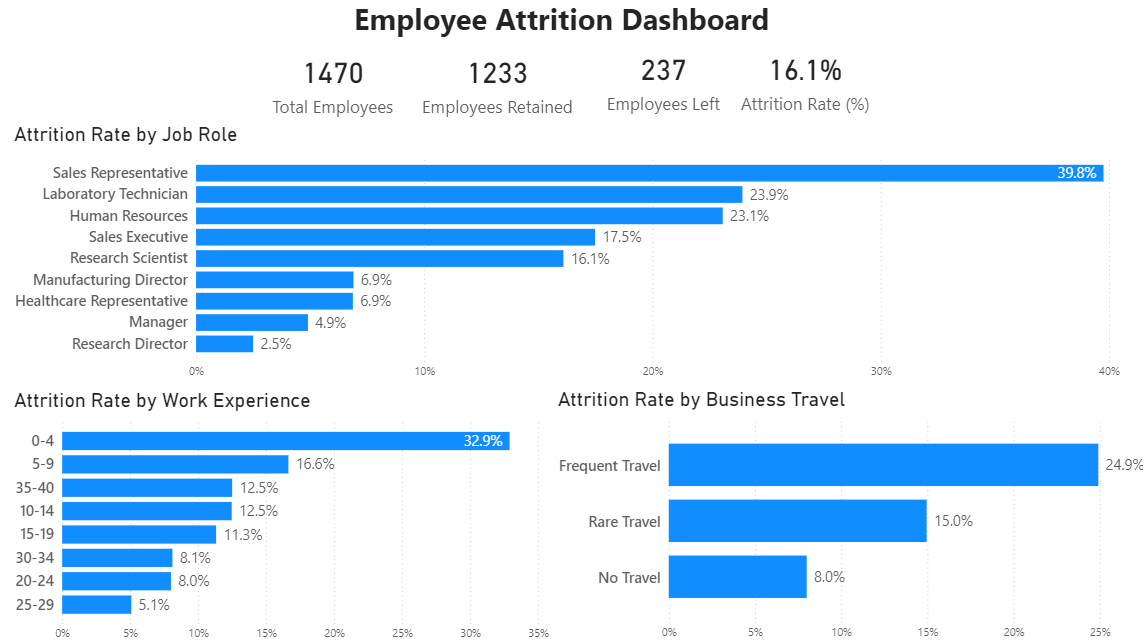

This screenshot's page, from the dashboard's own definition file:
{"tool":"powerbi","page":{"name":"Page 1","canvas":[1280,720],"ordinal":0},"visuals":[{"type":"card","fields":{"Values":["employee_attrition_raw.TotalEmployees"]},"box":[264.7,50,208,96],"z":0},{"type":"textbox","box":[387.1,0,488.6,54.3],"z":1000},{"type":"card","fields":{"Values":["Employees.Employees Left"]},"box":[634.7,50,192.9,88.6],"z":2000},{"type":"card","fields":{"Values":["Employees.Attrition Rate (%)"]},"box":[796.1,50,182.9,88.6],"z":3000},{"type":"card","fields":{"Values":["Employees.Employees Retained"]},"box":[446.1,50,207.1,95.7],"z":4000},{"type":"clusteredBarChart","title":"Attrition Rate by Job Role","fields":{"Category":["Employees.JobRole"],"Y":["Employees.Attrition Rate"]},"box":[13.7,141.3,1266.6,290.9],"z":5000},{"type":"clusteredBarChart","title":"Attrition Rate by Work Experience","fields":{"Category":["Employees.Work Experience Group"],"Y":["Employees.Attrition Rate"]},"box":[13.3,433.3,615,286.7],"z":6000},{"type":"clusteredBarChart","title":"Attrition Rate by Business Travel","fields":{"Category":["Employees.Business Travel Category"],"Y":["Employees.Attrition Rate"]},"box":[610,432.9,670,287.1],"z":7000}]}

Visuals, with their boxes in screenshot pixels (x1, y1, x2, y2), scaled from the page's 1280x720 canvas onto the 1147x642 screenshot:
card - employee_attrition_raw.TotalEmployees: x1=237 y1=45 x2=424 y2=130
textbox: x1=347 y1=0 x2=785 y2=48
card - Employees.Employees Left: x1=569 y1=45 x2=742 y2=124
card - Employees.Attrition Rate (%): x1=713 y1=45 x2=877 y2=124
card - Employees.Employees Retained: x1=400 y1=45 x2=585 y2=130
"Attrition Rate by Job Role" clusteredBarChart: x1=12 y1=126 x2=1146 y2=385
"Attrition Rate by Work Experience" clusteredBarChart: x1=12 y1=386 x2=563 y2=641
"Attrition Rate by Business Travel" clusteredBarChart: x1=547 y1=386 x2=1146 y2=641
